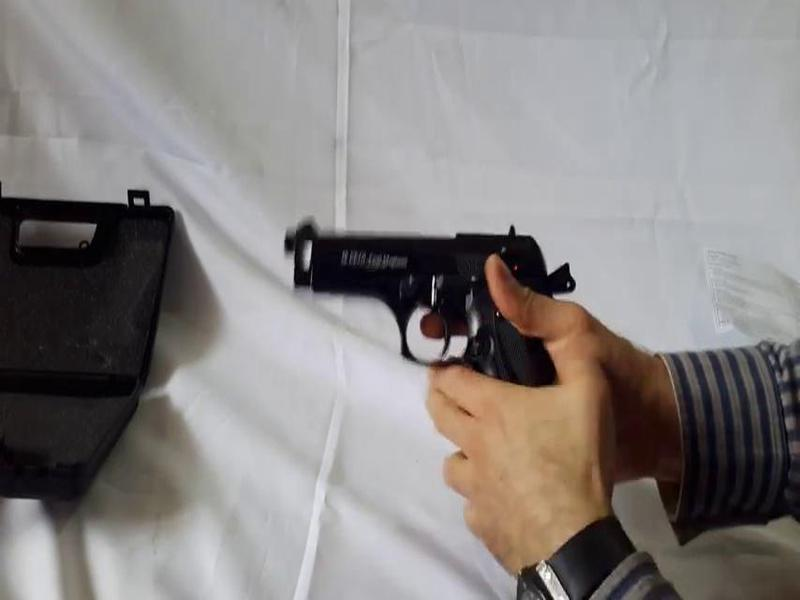Pistola: (258, 194, 569, 404)
